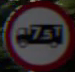Heavy Vehicles: (9, 5, 67, 62)
